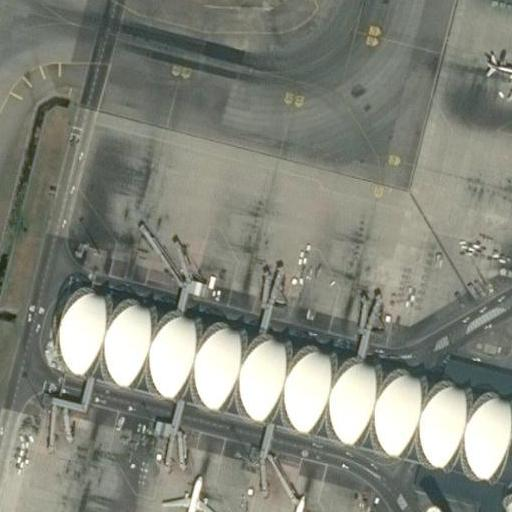Aircraft: (158, 473, 220, 512), (484, 42, 512, 99), (262, 492, 319, 512)
